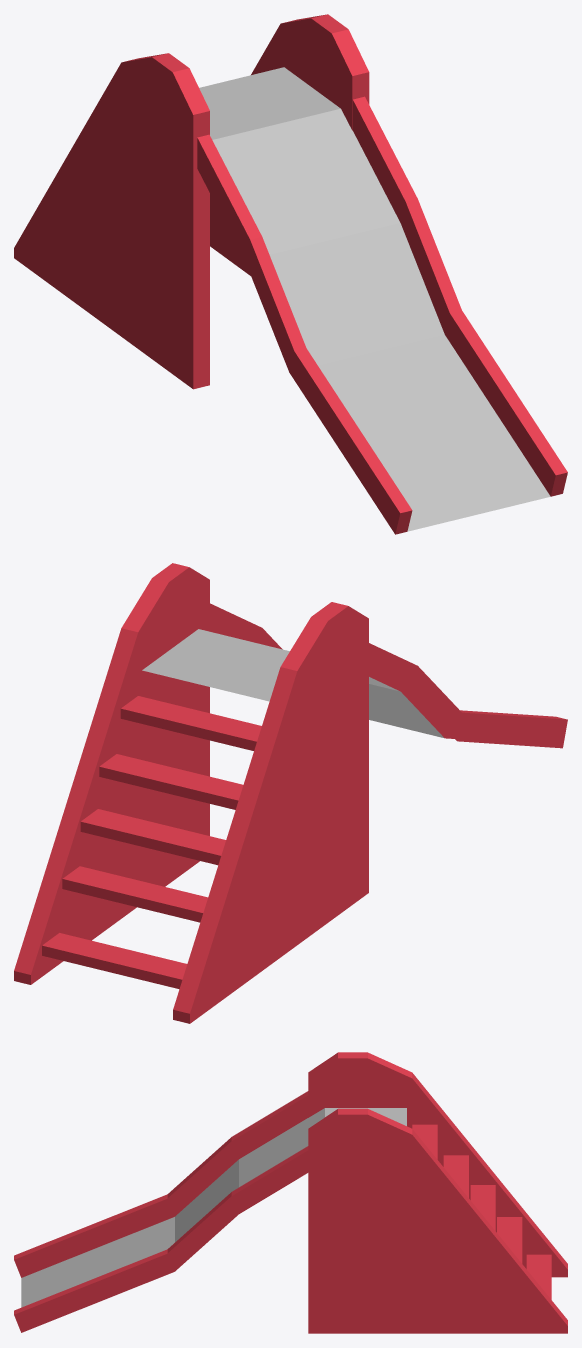
Rendered from Slide.fbx.
The picture shows the model from 3 angles, top to bottom: view 1: azimuth 30°, elevation 25°; view 2: azimuth 150°, elevation 25°; view 3: azimuth 270°, elevation 25°; orthographic projection. The views are drawn at different scales.
Parts seen in each view (by area): view 1: Plane; view 2: Plane; view 3: Plane.
Boxes of the visible parts, x1,y1,x2,y2 form: Plane: (14, 14, 567, 534); Plane: (14, 563, 567, 1023); Plane: (14, 1052, 567, 1333).
Bounding box in the file's own units: 69.92 × 115 × 263.
